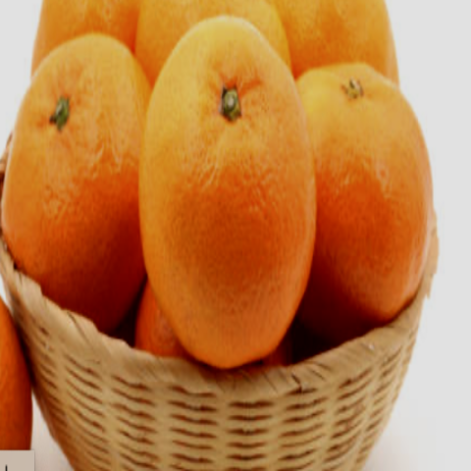orange: (134, 4, 327, 366), (265, 40, 470, 335), (5, 7, 160, 368)
